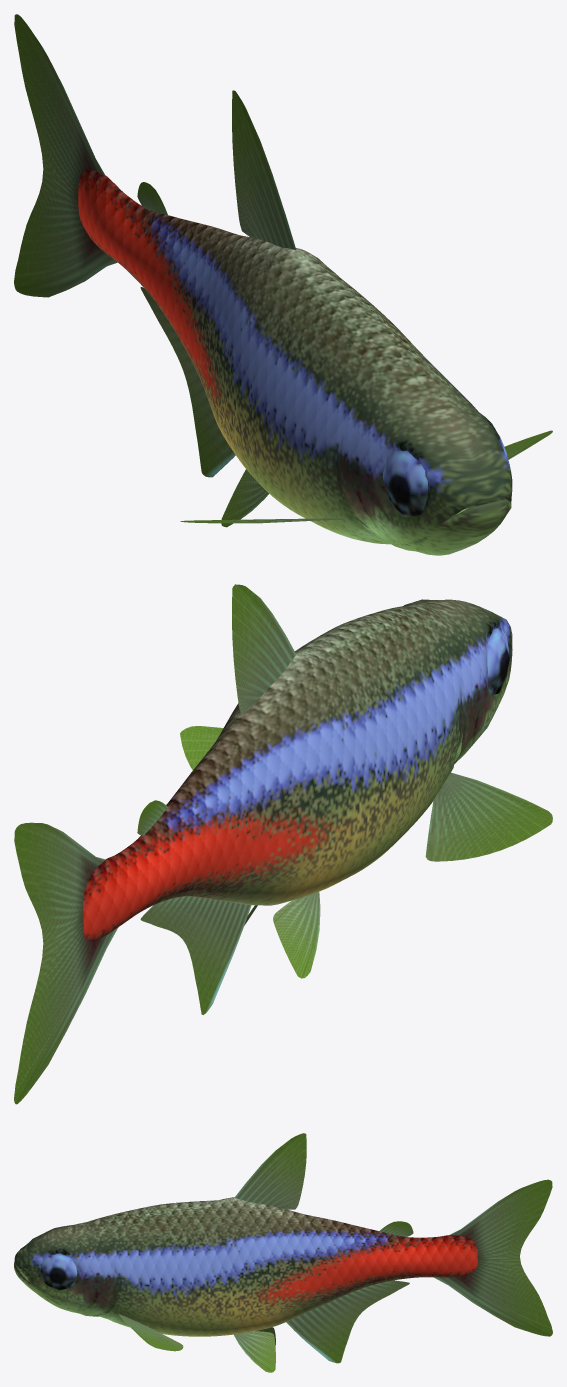
The model's file is NeonTetra.obj.
The picture shows the model from 3 angles, top to bottom: view 1: azimuth 30°, elevation 25°; view 2: azimuth 150°, elevation 25°; view 3: azimuth 270°, elevation 25°; orthographic projection. The views are drawn at different scales.
Parts seen in each view (by area): view 1: NeonTetra0; view 2: NeonTetra0; view 3: NeonTetra0.
Part boxes in pixels (bbox=[...]): NeonTetra0: bbox=[14, 14, 552, 555]; NeonTetra0: bbox=[14, 584, 552, 1104]; NeonTetra0: bbox=[14, 1133, 552, 1372].
Size of the model in its own units: 0.1798 by 0.1885 by 0.4003.
Materials: 1 (1 with a texture image).
